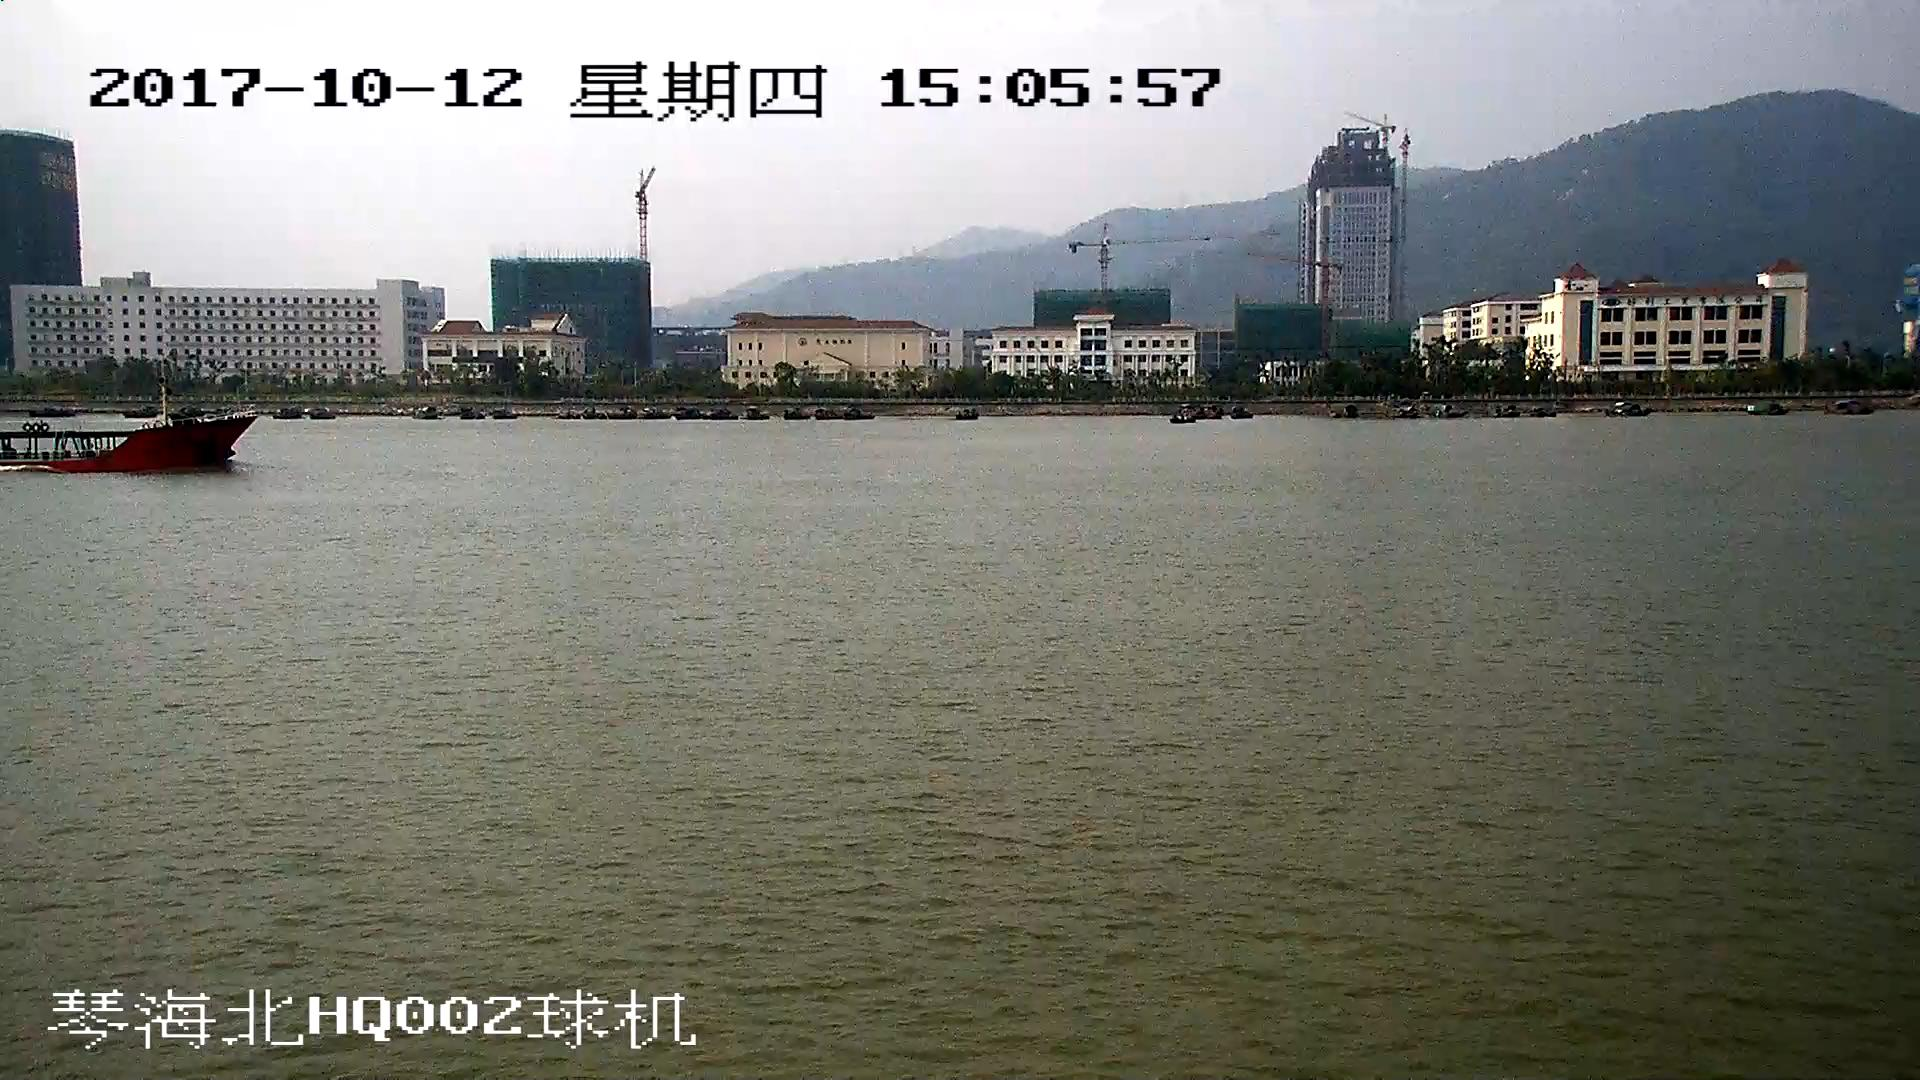general cargo ship: (1, 393, 245, 478)
